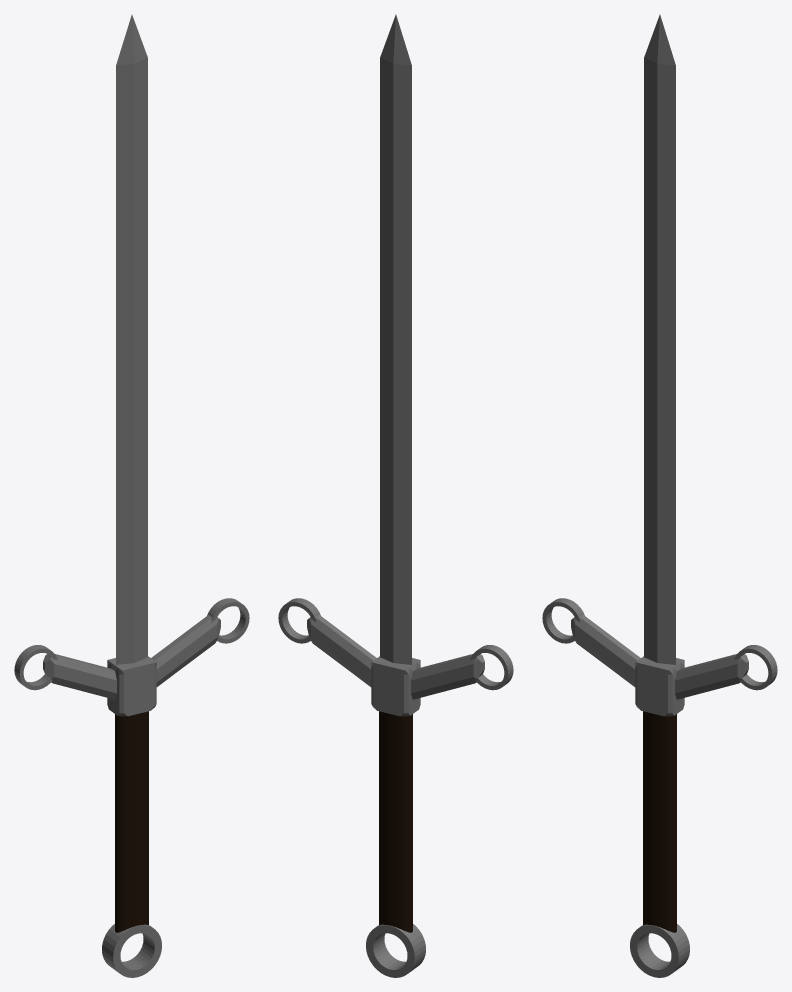
Rendered from Claymore.fbx.
The picture shows the model from 3 angles, left to right: view 1: azimuth 30°, elevation 25°; view 2: azimuth 150°, elevation 25°; view 3: azimuth 330°, elevation 25°; orthographic projection.
Visible parts, largest first — view 1: Cube.001, Cylinder, Cube, Cylinder.001, Cylinder.002, Cylinder.003; view 2: Cube.001, Cylinder, Cube, Cylinder.001, Cylinder.002, Cylinder.003; view 3: Cube.001, Cylinder, Cube, Cylinder.001, Cylinder.003, Cylinder.002.
Boxes of the visible parts, box(x1,y1,x2,y2) form: Cube.001: box(116, 14, 147, 664); Cylinder: box(115, 711, 148, 932); Cube: box(43, 615, 220, 716); Cylinder.001: box(102, 924, 161, 977); Cylinder.002: box(207, 598, 249, 643); Cylinder.003: box(14, 645, 57, 690); Cube.001: box(380, 14, 411, 664); Cylinder: box(379, 711, 412, 932); Cube: box(307, 615, 484, 716); Cylinder.001: box(366, 924, 425, 977); Cylinder.002: box(278, 598, 320, 643); Cylinder.003: box(470, 645, 513, 690); Cube.001: box(644, 14, 675, 664); Cylinder: box(643, 711, 676, 932); Cube: box(571, 615, 748, 716); Cylinder.001: box(630, 924, 689, 977); Cylinder.003: box(542, 598, 584, 643); Cylinder.002: box(734, 645, 777, 690).
Size of the model in its own units: 248 by 991 by 27.49.
